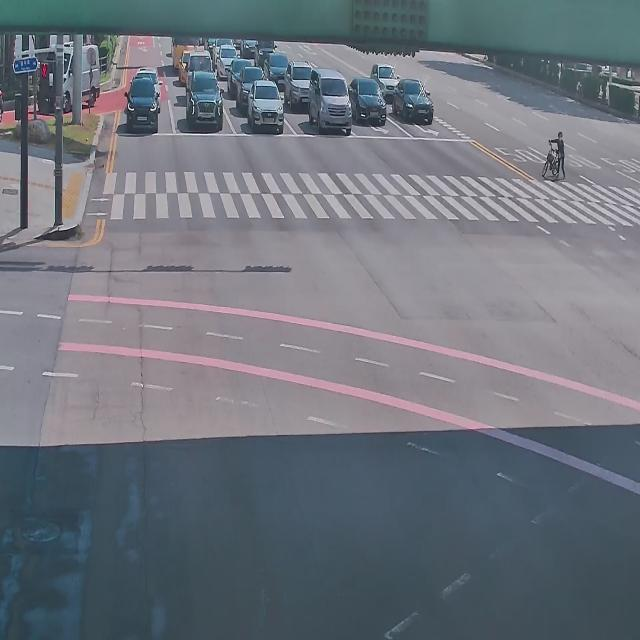Bus: (171, 36, 199, 68)
Car: (37, 44, 107, 116), (308, 68, 352, 134), (185, 70, 223, 131), (124, 75, 159, 134), (247, 79, 284, 134), (392, 78, 434, 125), (348, 76, 387, 126), (284, 59, 313, 108), (135, 67, 161, 113), (238, 63, 262, 109), (370, 63, 400, 99), (186, 50, 215, 86), (265, 53, 290, 86), (254, 40, 279, 67), (218, 45, 238, 77), (228, 59, 248, 90), (213, 38, 235, 61), (240, 38, 260, 58), (178, 48, 188, 82), (205, 37, 216, 55)
